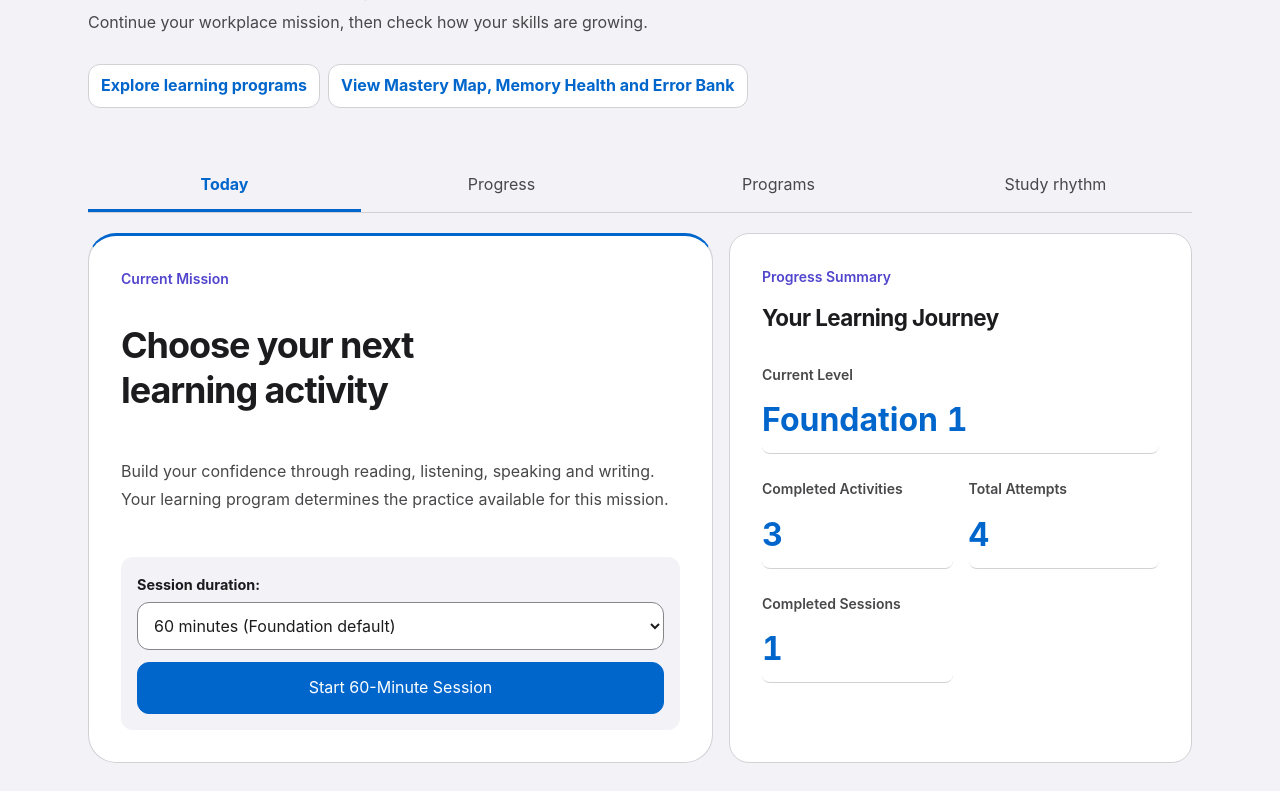
DashboardView › applies an empty 422 availability response instead of offering an invalid retry
(page scrolled)
Click the button "Start 60-Minute Session" at (400, 688), box [137,662,664,714]
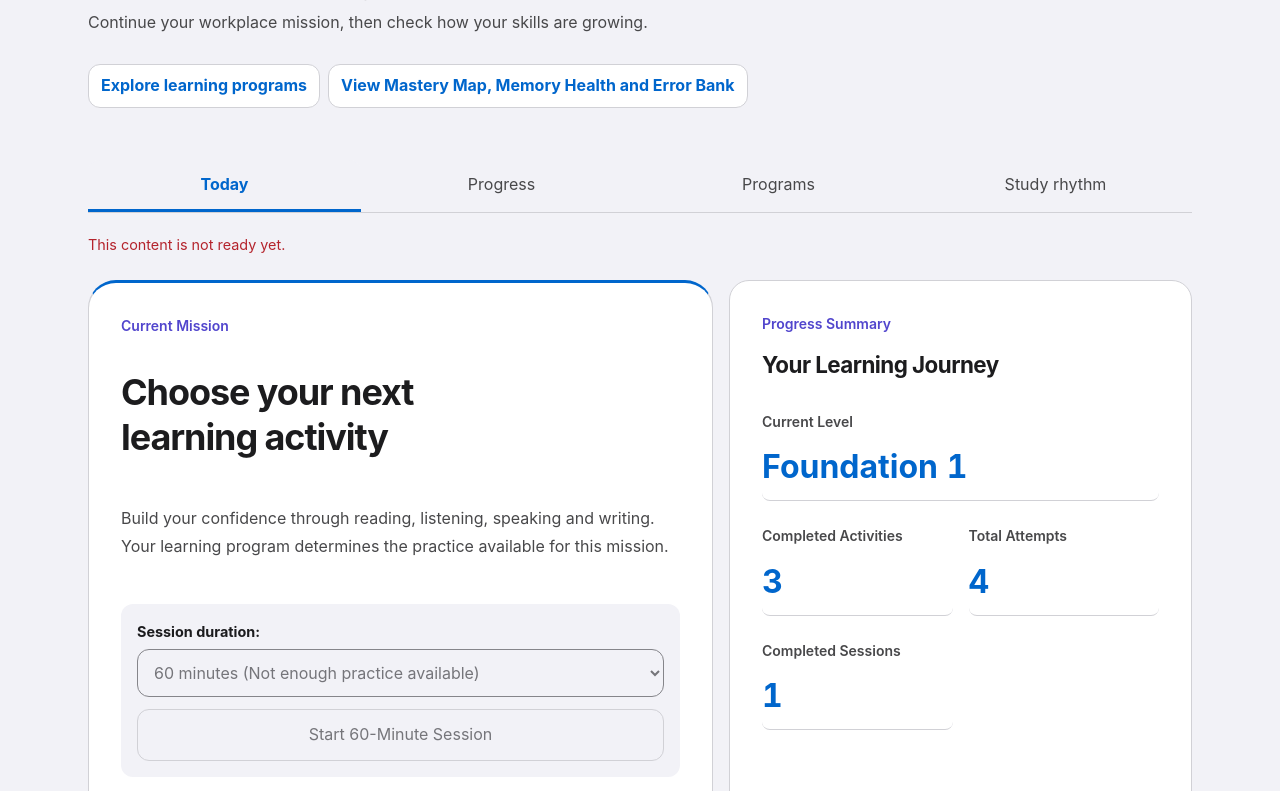
Expected: the message "This content is not ready yet." is shown, [88,236,285,253]
Expected: the button "Start 60-Minute Session" is disabled, [137,709,664,761]
